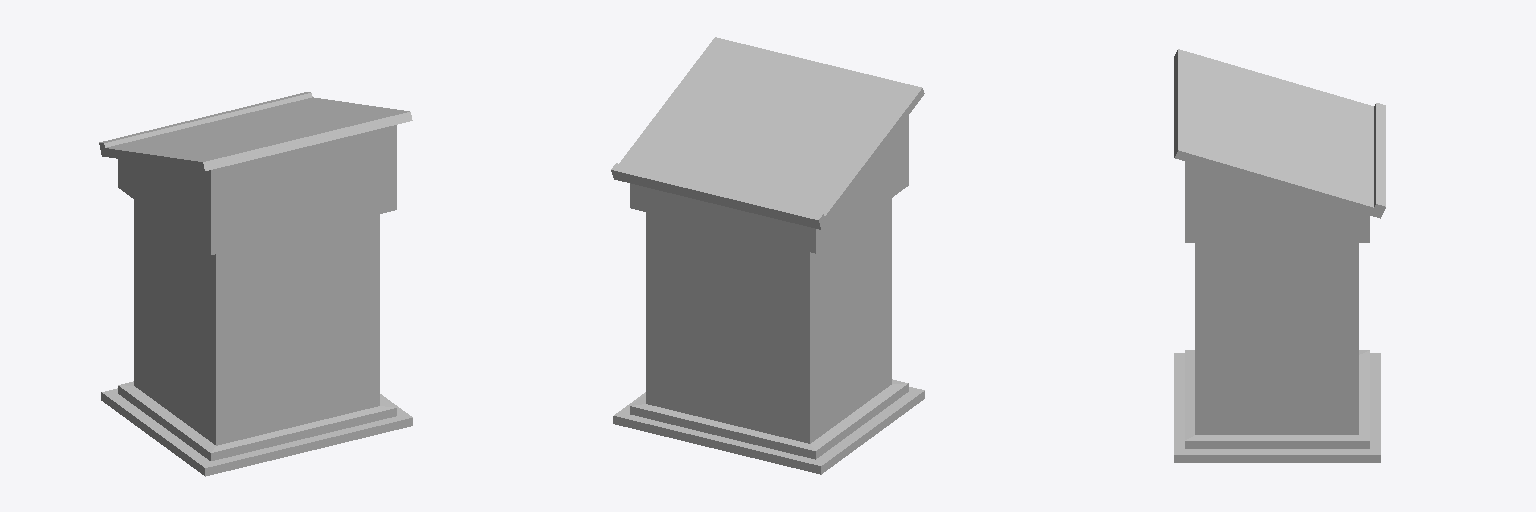
The model's file is podium.obj.
3 views of the same model, side by side, from view 1: azimuth 30°, elevation 25°; view 2: azimuth 150°, elevation 25°; view 3: azimuth 270°, elevation 25° (orthographic).
Parts seen in each view (by area): view 1: podium; view 2: podium; view 3: podium.
Part boxes in pixels (left/top/right/bottom): podium: left=99, top=92, right=412, bottom=476; podium: left=611, top=37, right=924, bottom=474; podium: left=1174, top=49, right=1385, bottom=462.
Bounding box in the file's own units: 1.62 × 2.33 × 1.44.